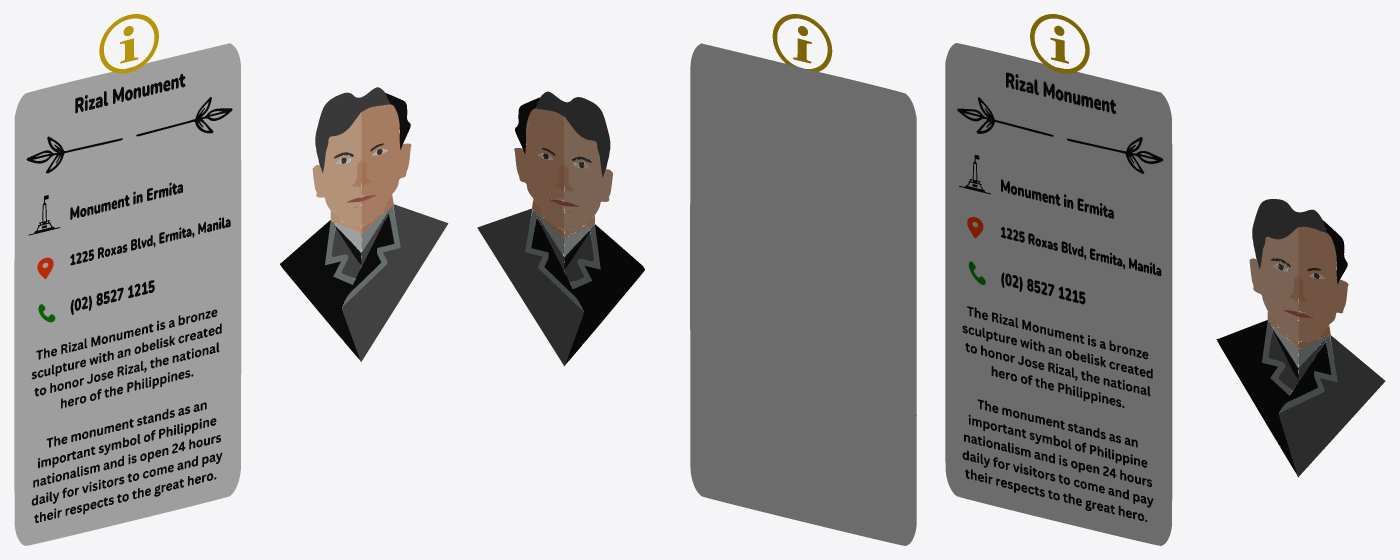
Rendered from RIZAL-PARK.fbx.
3 renders of one model, left to right at view 1: azimuth 30°, elevation 25°; view 2: azimuth 150°, elevation 25°; view 3: azimuth 330°, elevation 25°, orthographic.
Parts seen in each view (by area): view 1: Curve; view 2: Curve; view 3: Curve.
Part boxes in pixels (left/top/right/bottom): Curve: left=14, top=14, right=448, bottom=545; Curve: left=477, top=14, right=916, bottom=545; Curve: left=945, top=14, right=1385, bottom=545.
Bounding box in the file's own units: 56.04 × 62.12 × 0.7588.
